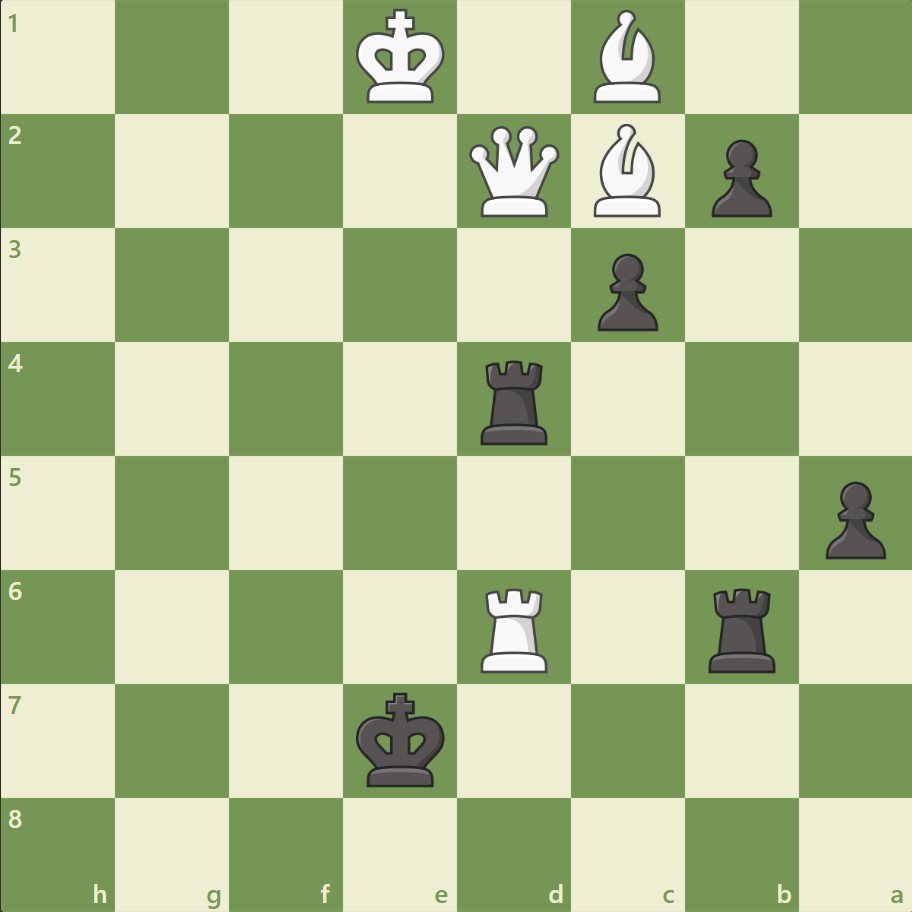B: (585, 6, 669, 109), (585, 120, 669, 222)
K: (351, 4, 451, 112)
Q: (464, 122, 563, 222)
R: (473, 579, 556, 676)
k: (351, 685, 451, 793)
p: (701, 132, 776, 223), (815, 473, 889, 564), (588, 246, 662, 337)
r: (700, 579, 783, 676), (473, 352, 556, 449)
